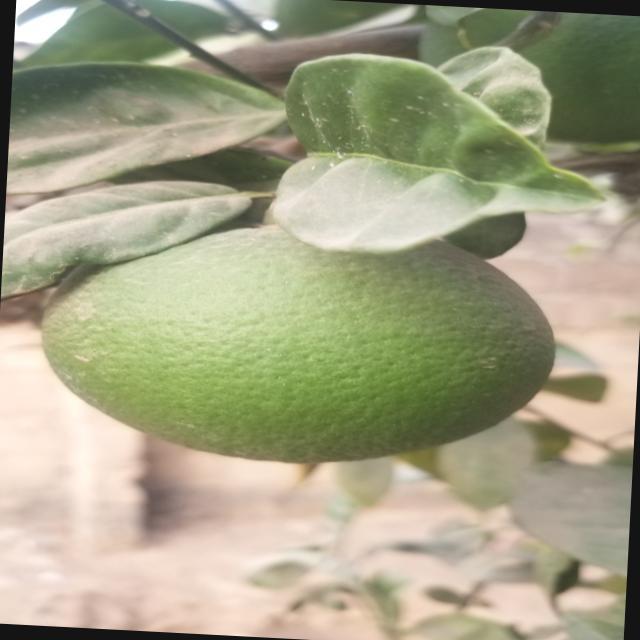agrume: (28, 212, 560, 475)
